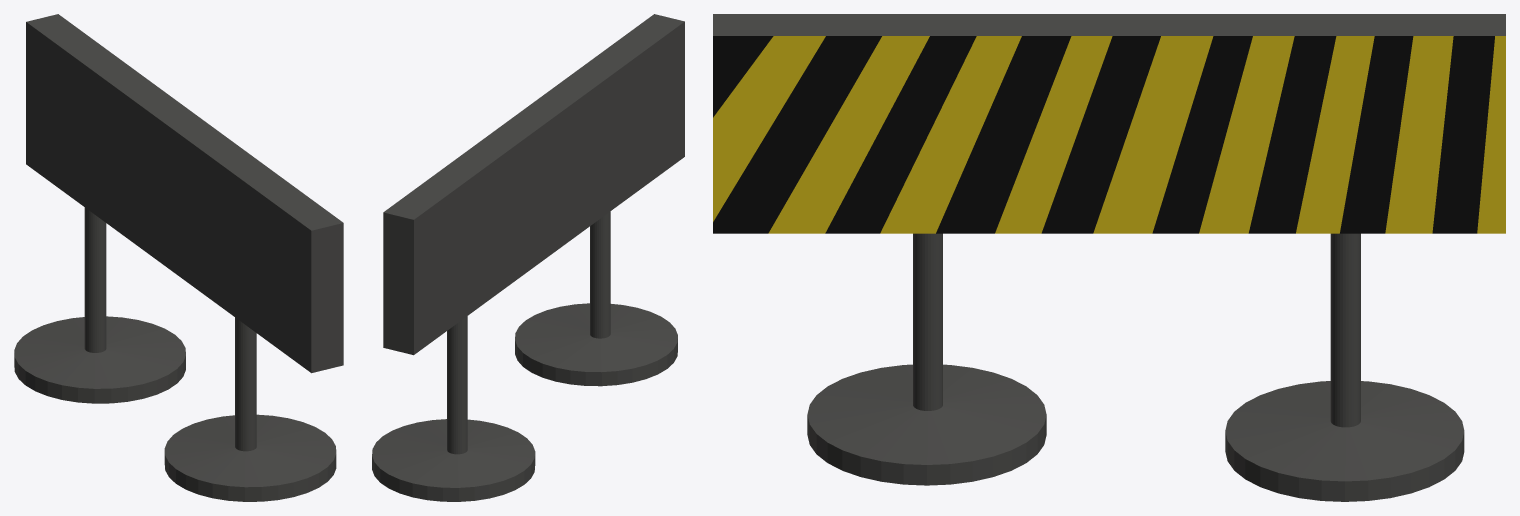
Rendered from bariyer2.fbx.
3 views of the same model, side by side, from view 1: azimuth 30°, elevation 25°; view 2: azimuth 150°, elevation 25°; view 3: azimuth 270°, elevation 25° (orthographic). The views are drawn at different scales.
Parts seen in each view (by area): view 1: Cube; view 2: Cube; view 3: Cube.
Part boxes in pixels (x1,y1,x2,y2): Cube: (14,14,343,501); Cube: (372,14,684,501); Cube: (713,14,1505,501).
Size of the model in its own units: 55.12 by 108 by 183.
